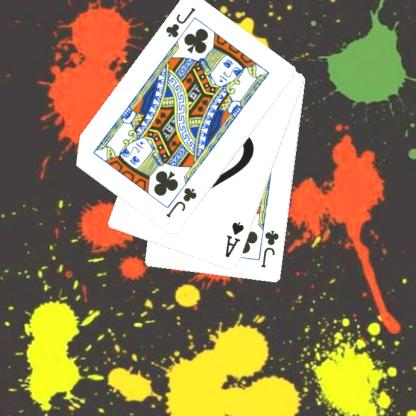AS: (223, 219, 245, 260)
JC: (162, 5, 198, 40), (163, 184, 198, 219), (259, 228, 281, 269)
